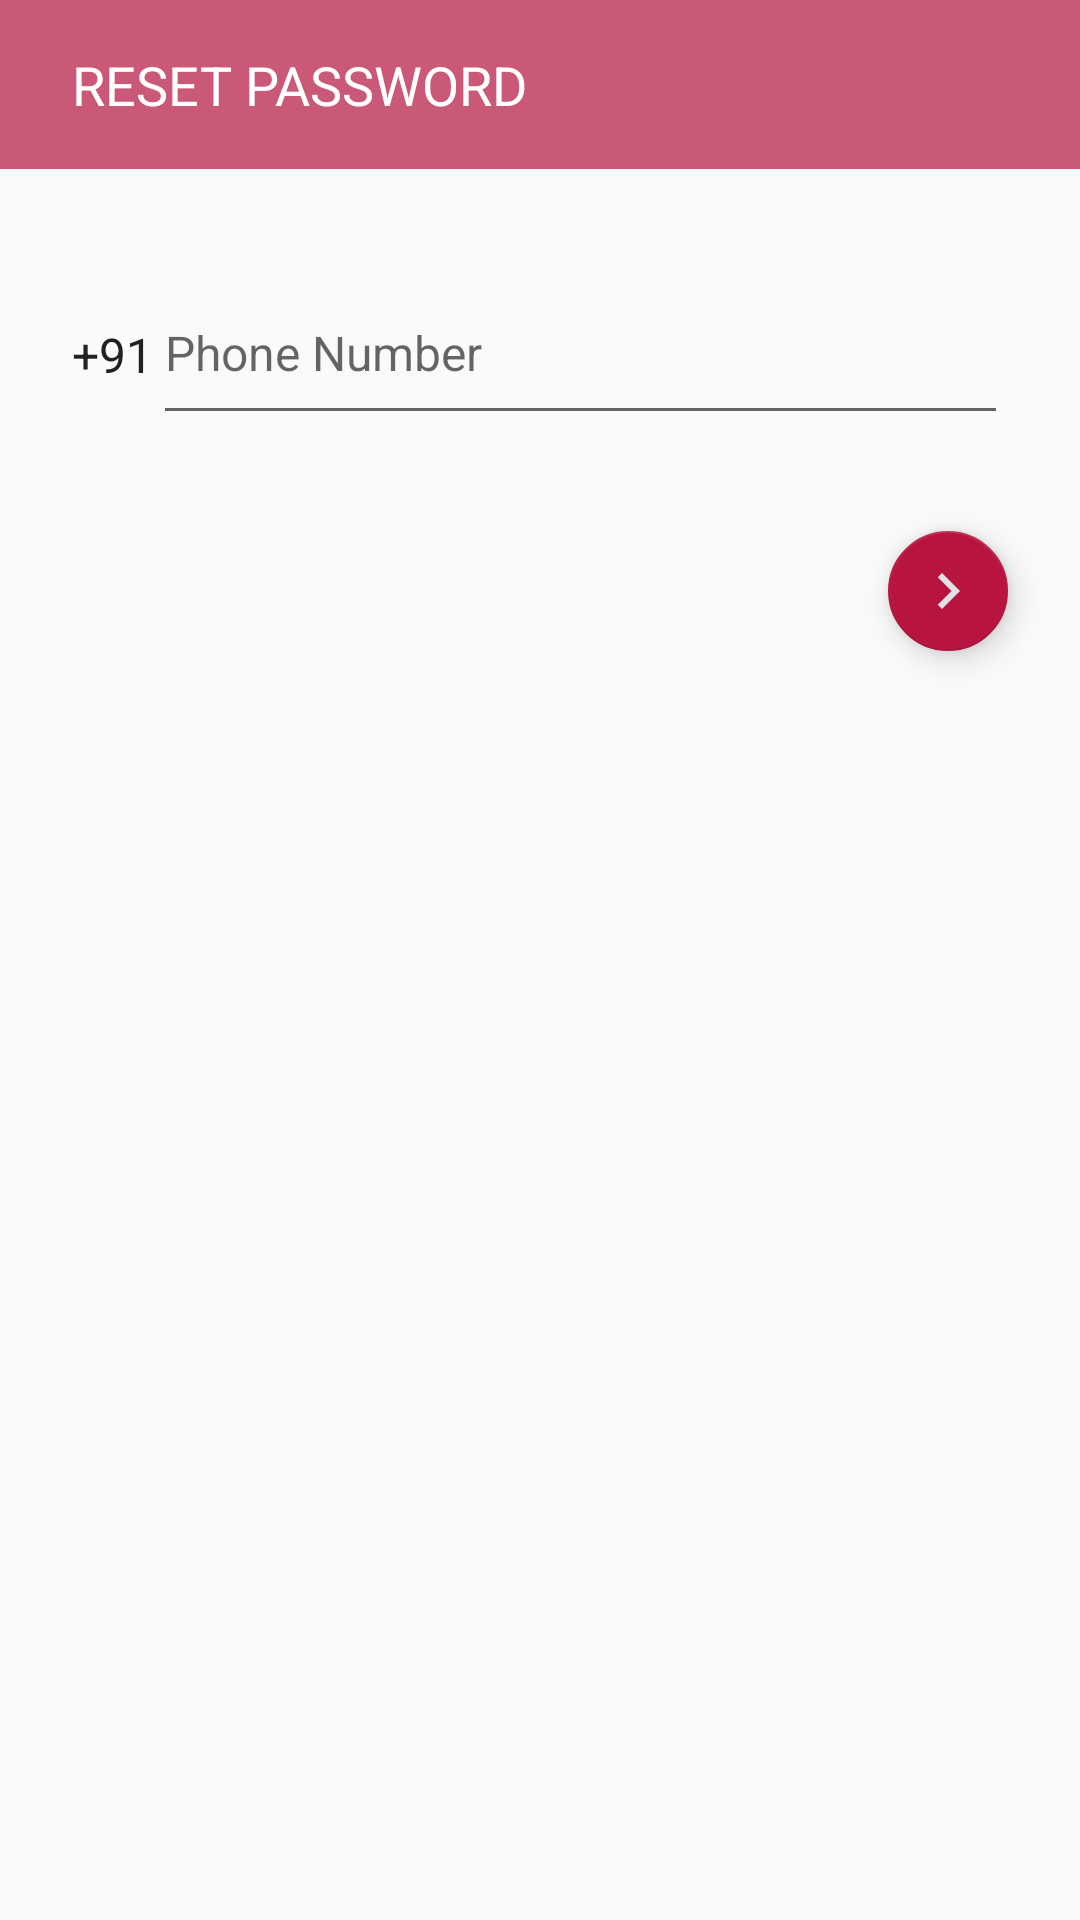

Where to tap for icons on this 1080w x 1920h app screen, as [x,y]:
chevron right: [948,591]
